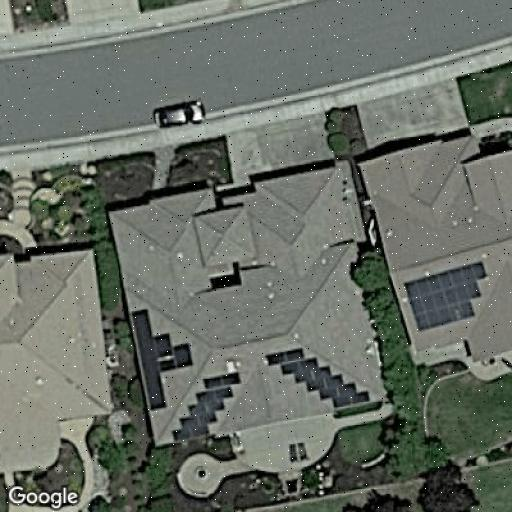solar-panel: (262, 348, 374, 409), (131, 304, 193, 412), (402, 258, 490, 332), (169, 368, 243, 442)
